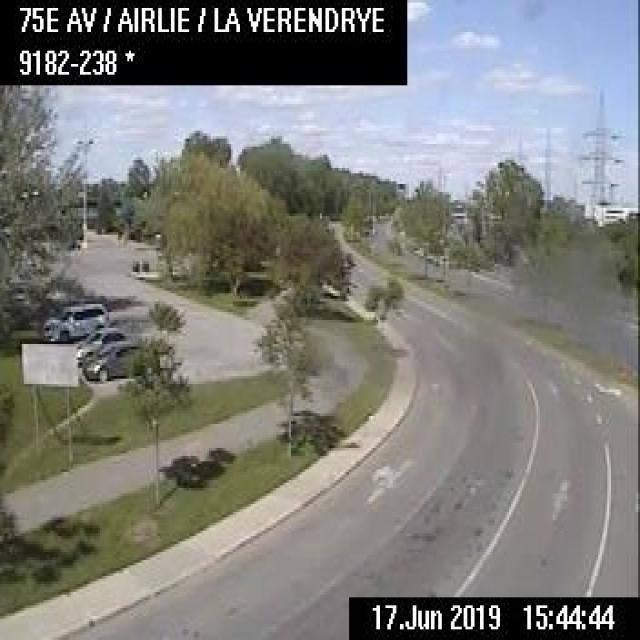vehicle: (83, 338, 145, 381), (42, 300, 108, 338), (73, 326, 124, 360)
